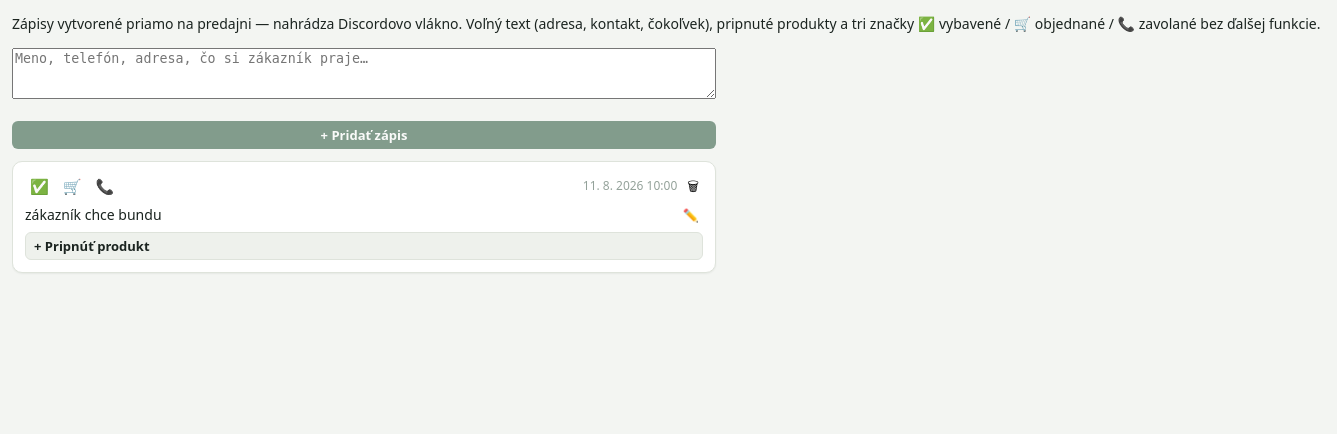
it: vyhľadá produkt (rovnaká cesta ako Vyhľadať) a pripne ho na zápis
This screenshot has width=1337, height=434.
Expected: the element with test id "floor-note-row-note-a" is shown, x1=12 y1=161 x2=716 y2=273
Click the button with test id "floor-note-attach-toggle-note-a". click: (92, 246)
box: x1=25 y1=232 x2=703 y2=260
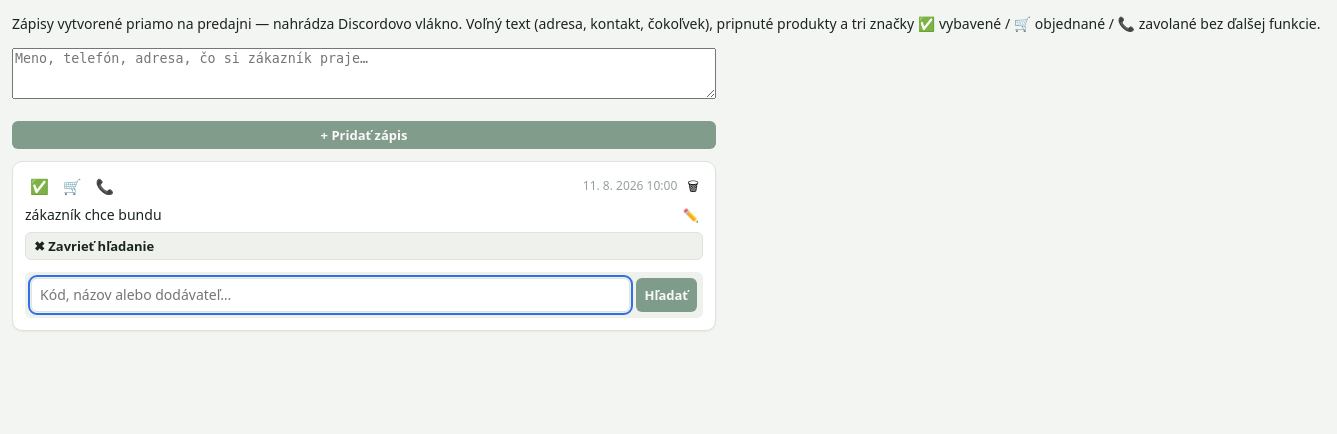
Type "bunda" into the search field with test id "floor-note-product-search-input". click: (330, 295)
box: x1=31 y1=278 x2=630 y2=312
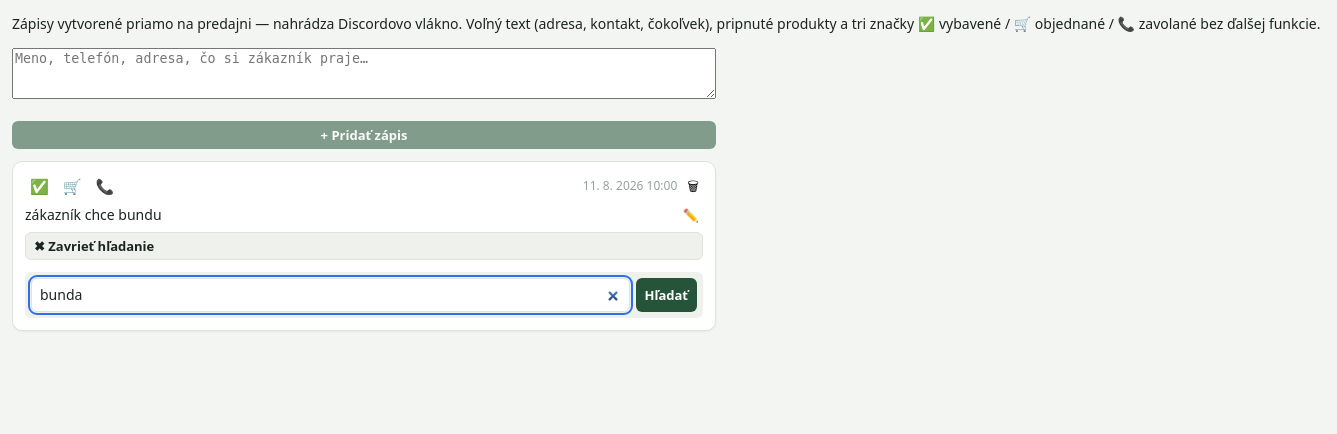
Click the button with test id "floor-note-product-search-submit". click: (666, 295)
box: x1=636 y1=278 x2=697 y2=312
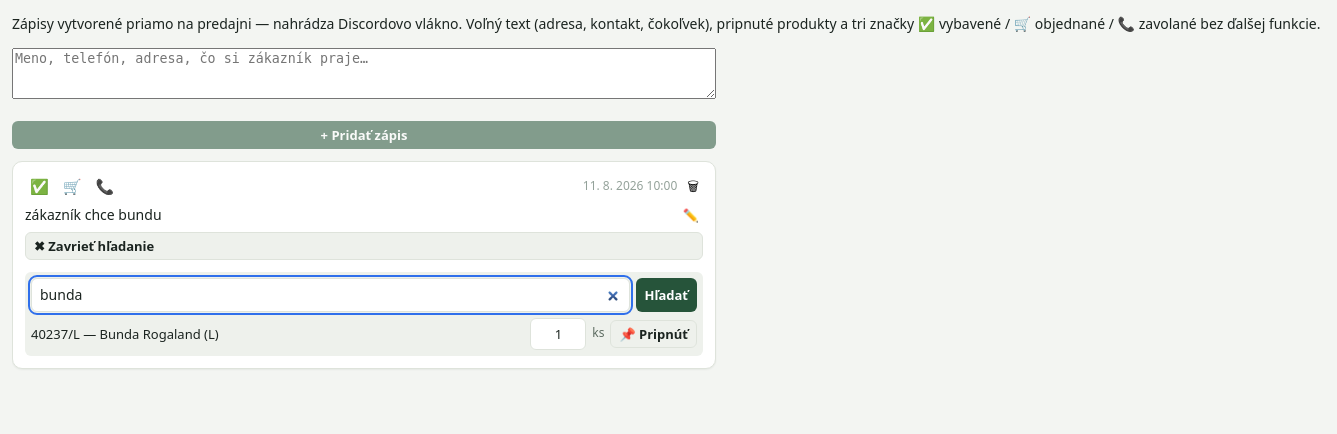
Now the button with test id "floor-note-product-pin-40237/L" is shown
Click the button with test id "floor-note-product-pin-40237/L". click: (654, 334)
box: x1=610 y1=320 x2=697 y2=348
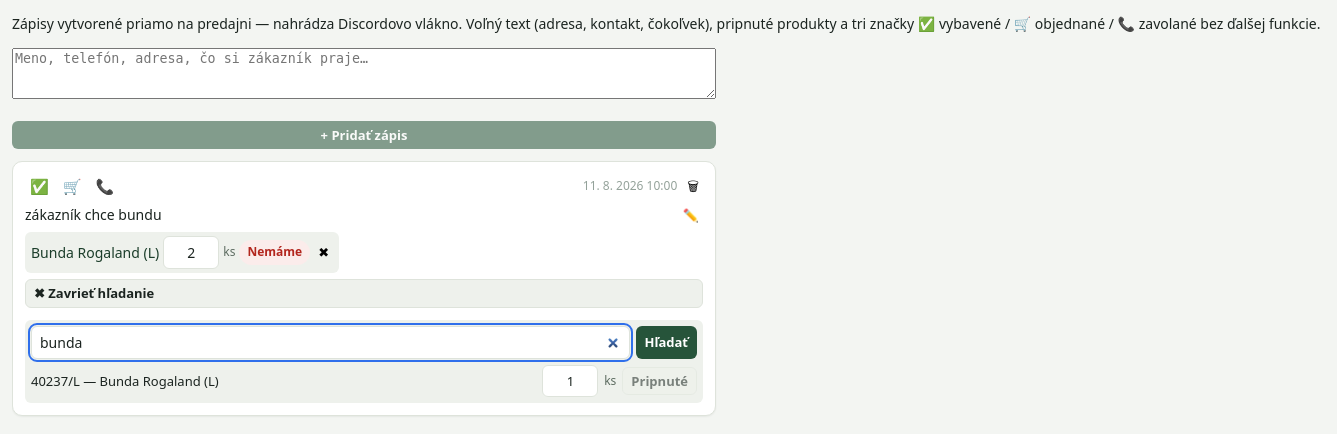
Now the link with test id "floor-note-product-link-note-a-40237/L" is shown, box x1=31 y1=243 x2=159 y2=262
